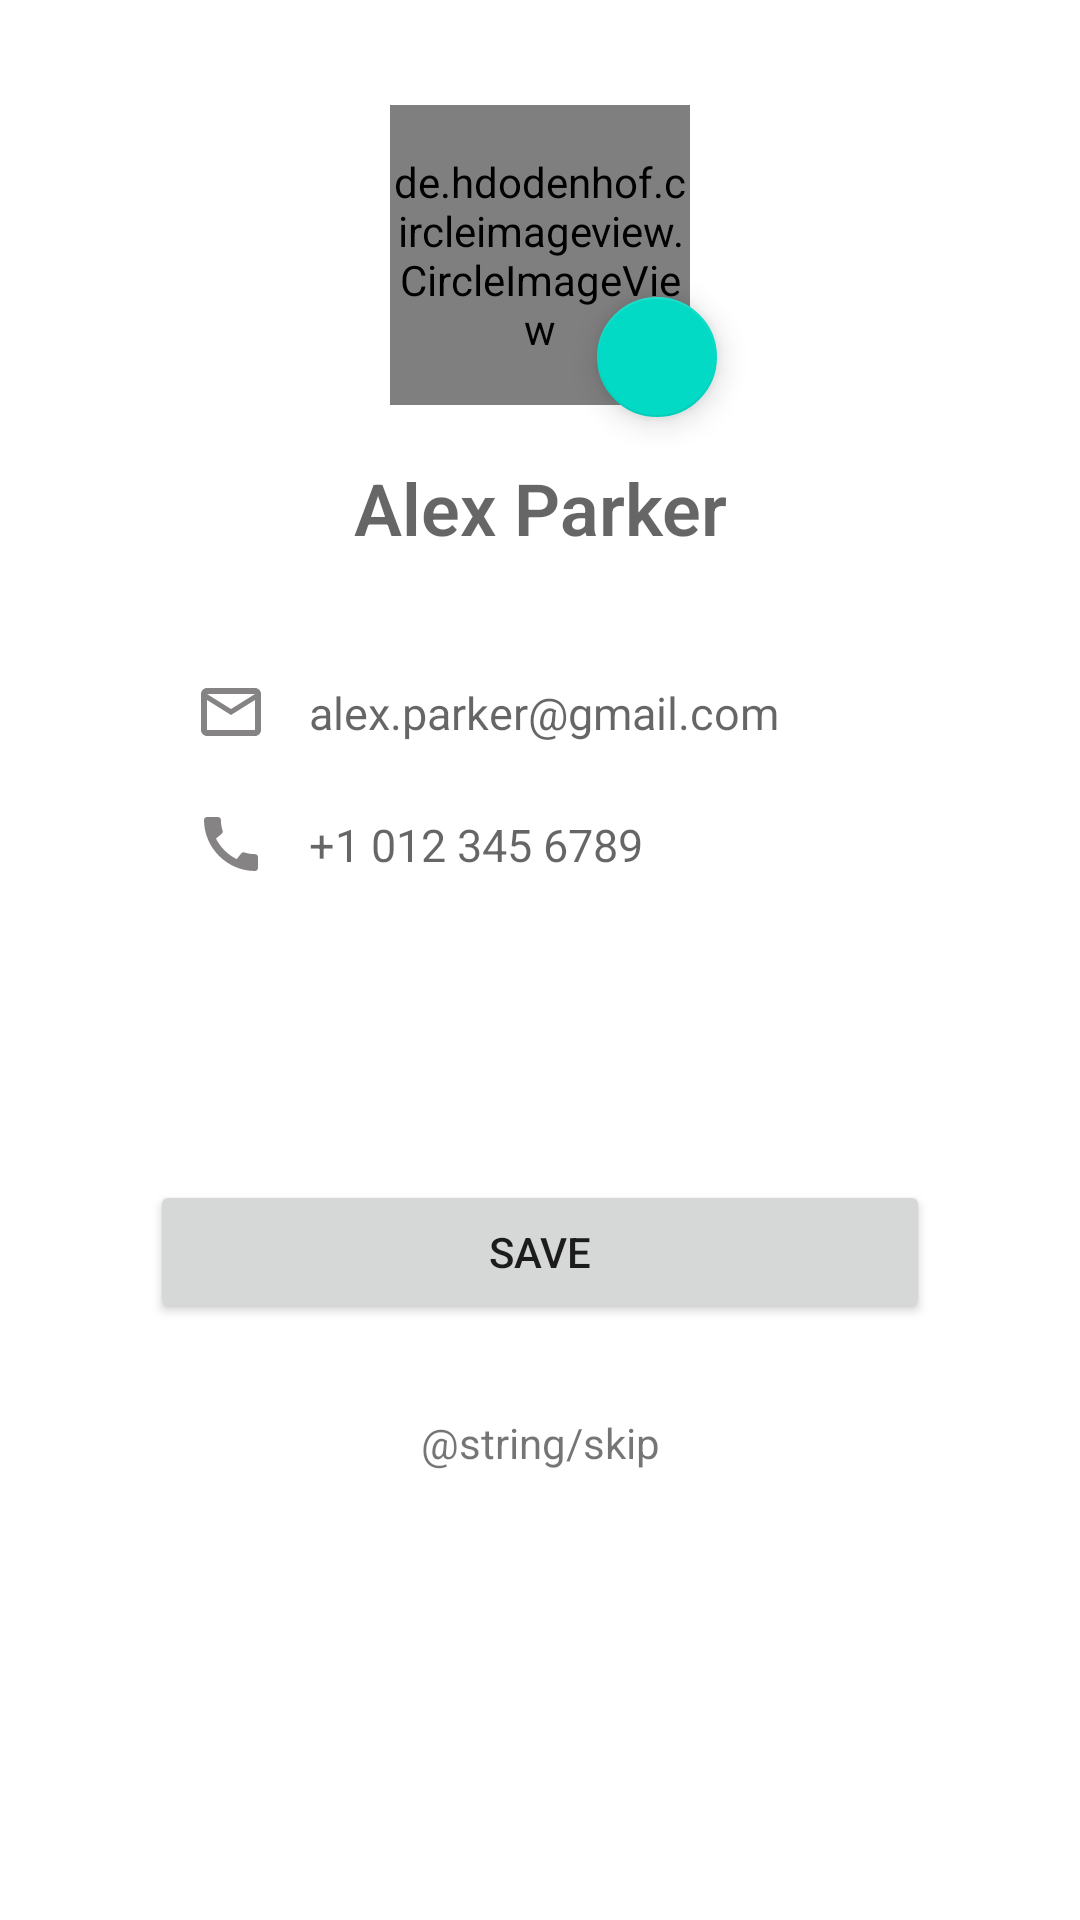

Screen size 1080x1920. Icon name, then its center in pixels as point (x, y):
call: point (231, 844)
